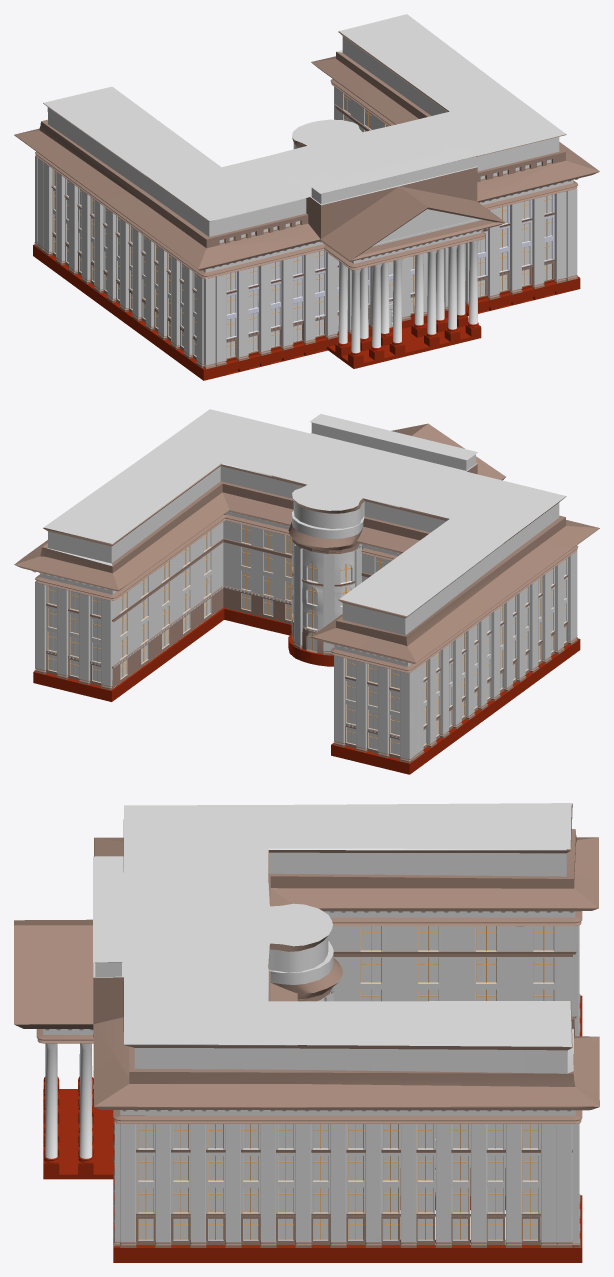
The model's file is CentralBuilding.fbx.
3 views of the same model, one above another, from view 1: azimuth 30°, elevation 25°; view 2: azimuth 150°, elevation 25°; view 3: azimuth 270°, elevation 25° (orthographic). The views are drawn at different scales.
Parts seen in each view (by area): view 1: Куб.030, Куб.012, Куб.007, Плоскость, Куб.040, Куб.043, Куб.009, Куб.010, Куб.019, Куб.033; view 2: Куб.030, Куб.007, Куб.019, Куб.008, Куб.029, Куб.046, Куб.043, Куб.010, Куб.054, Куб.034, Куб.033; view 3: Куб.030, Куб.043, Куб.007, Куб.019, Куб.010, Плоскость, Куб.033, Куб.008, Куб.009, Куб.024.
Part boxes in pixels (bbox=[...]): Куб.030: bbox=[14, 14, 599, 380]; Куб.012: bbox=[215, 191, 566, 366]; Куб.007: bbox=[42, 162, 577, 367]; Плоскость: bbox=[335, 240, 481, 365]; Куб.040: bbox=[226, 194, 554, 359]; Куб.043: bbox=[52, 169, 196, 360]; Куб.009: bbox=[203, 188, 577, 369]; Куб.010: bbox=[35, 79, 577, 278]; Куб.019: bbox=[335, 88, 387, 131]; Куб.033: bbox=[37, 158, 43, 251]; Куб.030: bbox=[14, 409, 599, 774]; Куб.007: bbox=[417, 551, 577, 756]; Куб.019: bbox=[112, 522, 223, 687]; Куб.008: bbox=[34, 581, 412, 763]; Куб.029: bbox=[223, 520, 391, 624]; Куб.046: bbox=[46, 585, 400, 758]; Куб.043: bbox=[423, 558, 567, 748]; Куб.010: bbox=[35, 514, 578, 672]; Куб.054: bbox=[293, 544, 334, 655]; Куб.034: bbox=[311, 422, 466, 470]; Куб.033: bbox=[410, 667, 418, 761]; Куб.030: bbox=[14, 803, 599, 1262]; Куб.043: bbox=[136, 1124, 540, 1244]; Куб.007: bbox=[120, 1124, 556, 1247]; Куб.019: bbox=[328, 926, 574, 1196]; Куб.010: bbox=[113, 911, 582, 1123]; Плоскость: bbox=[43, 1043, 93, 1174]; Куб.033: bbox=[556, 1124, 572, 1247]; Куб.008: bbox=[573, 925, 580, 1247]; Куб.009: bbox=[113, 1122, 120, 1246]; Куб.024: bbox=[136, 1214, 540, 1216].
Size of the model in its own units: 212 by 83.35 by 194.
